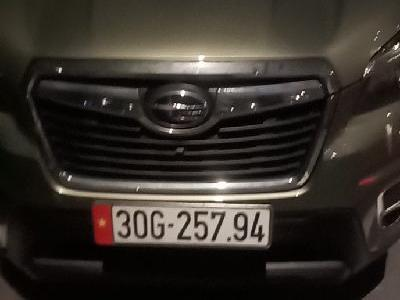number: (91, 200, 270, 249)
